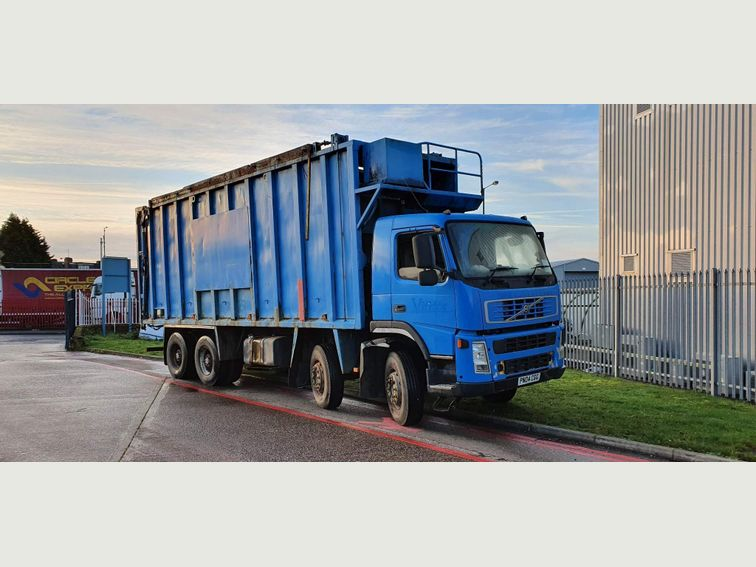Semi: (134, 133, 564, 427)
